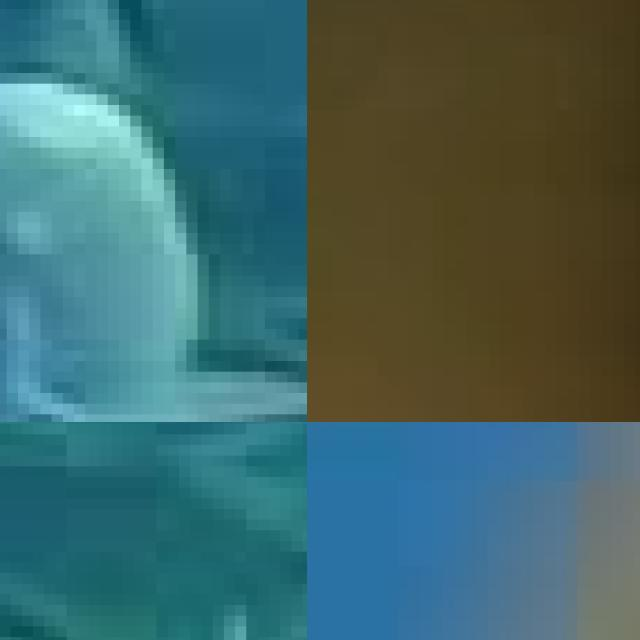fish: (0, 0, 307, 422)
